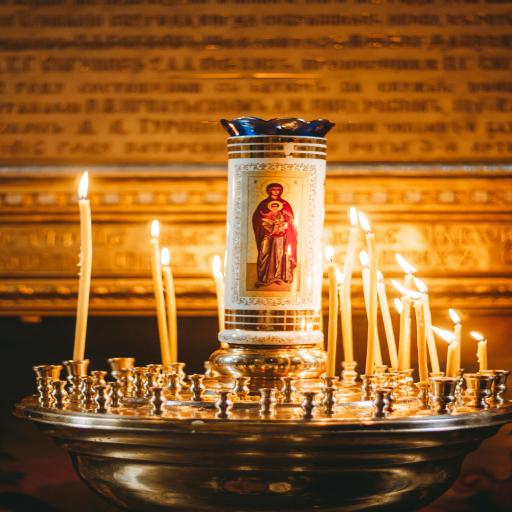candlelight: (49, 173, 185, 359), (334, 224, 464, 384), (58, 165, 114, 364), (324, 208, 382, 363)
